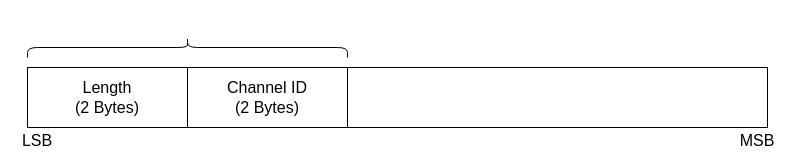
This 794x167 diagram has some shape labels left out. Each missing label, with the box of its shape:
Basic L2CAP Header: (26, 36, 348, 58)
Payload (0 ... 65535 Bytes): (346, 66, 768, 128)
